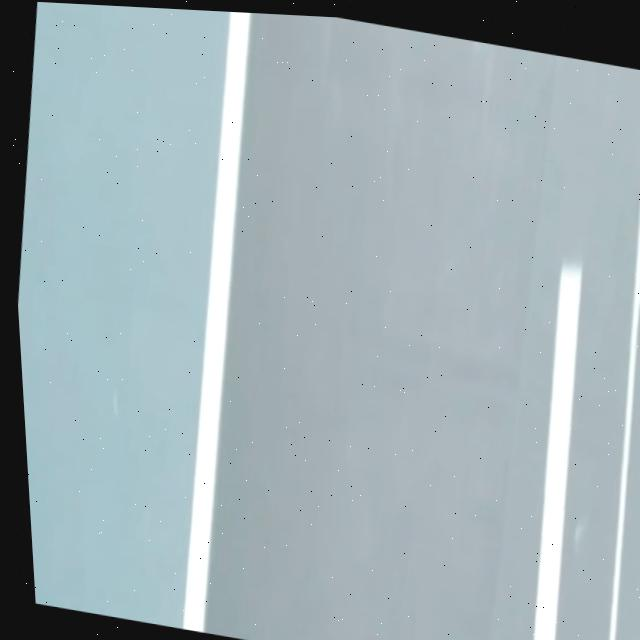center: (532, 264, 579, 640)
left: (182, 12, 250, 632)
